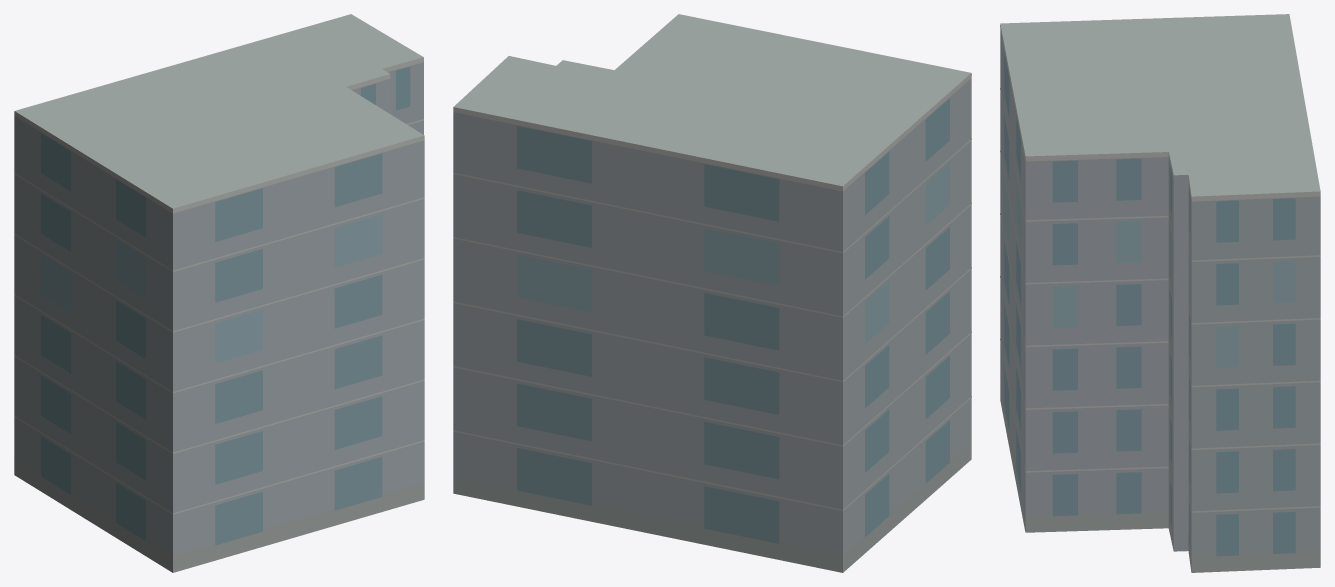
Rendered from survey-upis-32937912.glb.
3 renders of one model, left to right at view 1: azimuth 30°, elevation 25°; view 2: azimuth 150°, elevation 25°; view 3: azimuth 270°, elevation 25°, orthographic. The views are drawn at different scales.
Visible parts, largest first — view 1: survey-upis-32937912.tmp; view 2: survey-upis-32937912.tmp; view 3: survey-upis-32937912.tmp.
Boxes of the visible parts, box(x1,y1,x2,y2) form: survey-upis-32937912.tmp: box(14, 14, 424, 572); survey-upis-32937912.tmp: box(453, 14, 971, 572); survey-upis-32937912.tmp: box(1000, 14, 1320, 572).
Size of the model in its own units: 19.07 by 18.3 by 14.15.
